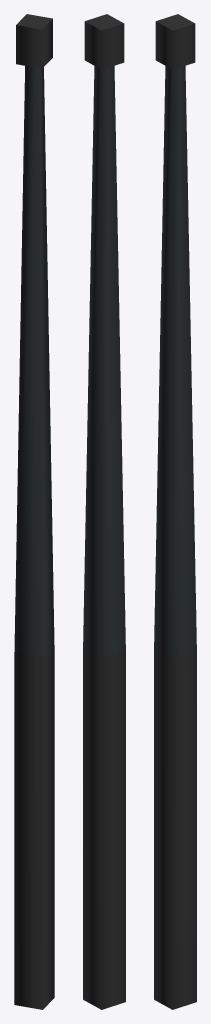
File: Weapon_Low_Baton.FBX
The picture shows the model from 3 angles, left to right: view 1: azimuth 90°, elevation 25°; view 2: azimuth 150°, elevation 25°; view 3: azimuth 330°, elevation 25°; orthographic projection.
Visible parts, largest first — view 1: WeaponBaton_Low; view 2: WeaponBaton_Low; view 3: WeaponBaton_Low.
Boxes of the visible parts, box(x1,y1,x2,y2) form: WeaponBaton_Low: box(14, 14, 54, 1009); WeaponBaton_Low: box(83, 14, 125, 1009); WeaponBaton_Low: box(154, 14, 196, 1009).
Bounding box in the file's own units: 1.85 × 1.85 × 50.
